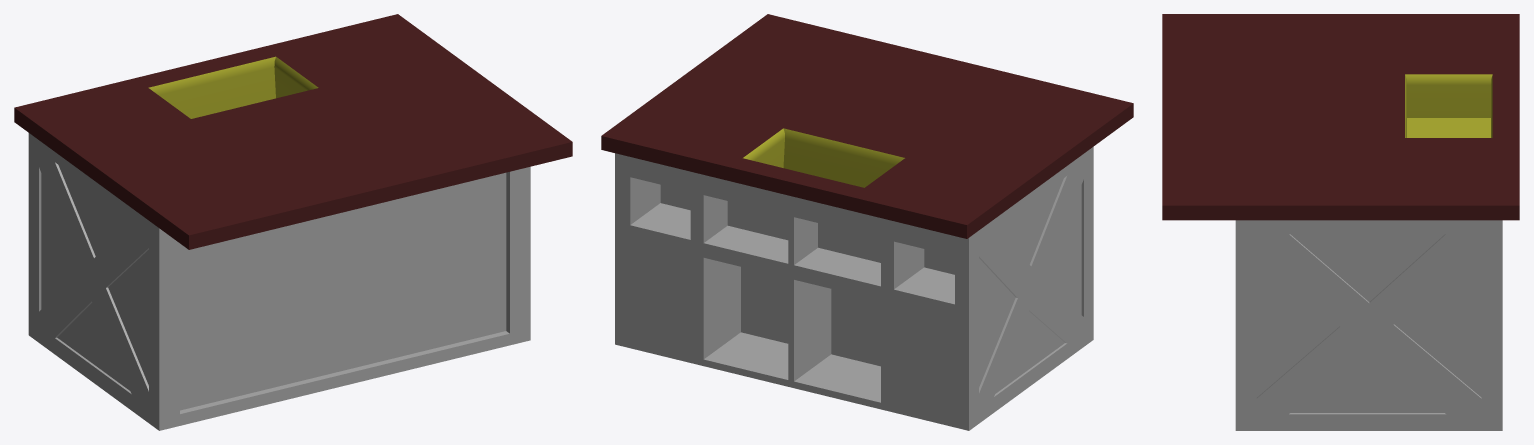
The model's file is Island.fbx.
3 renders of one model, left to right at view 1: azimuth 30°, elevation 25°; view 2: azimuth 150°, elevation 25°; view 3: azimuth 270°, elevation 25°, orthographic. The views are drawn at different scales.
Parts seen in each view (by area): view 1: pCube65; view 2: pCube65; view 3: pCube65.
Boxes of the visible parts, x1=… form: pCube65: x1=14, y1=14, x2=572, y2=430; pCube65: x1=601, y1=14, x2=1133, y2=430; pCube65: x1=1162, y1=14, x2=1519, y2=430.
Bounding box in the file's own units: 5.31 × 2.96 × 4.19.
